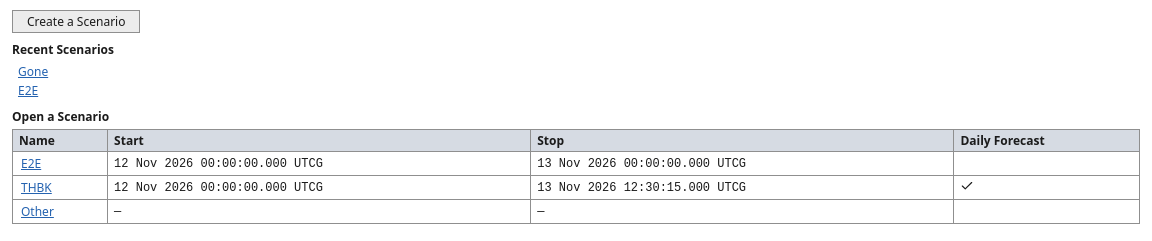
Test: opening › a recent name whose scenario is gone (404 NOT_FOUND) disappears from the recent list, and the list of scenarios is left as it is
This screenshot has width=1152, height=241.
Expected: the table is shown, [12,129,1140,224]
Click the button "Gone": (33, 72) [16,62,50,81]
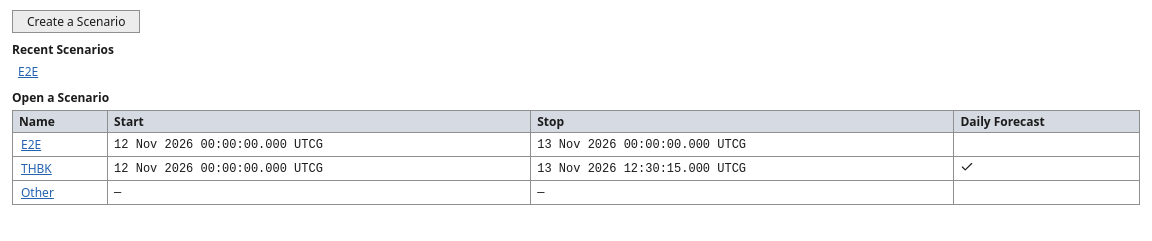
Expected: the number of rows is 4, [12,110,1140,132]; [12,132,1140,156]; [12,156,1140,180]; [12,180,1140,204]
Expected: the buttons read "E2E", in this order, [16,62,40,81]
